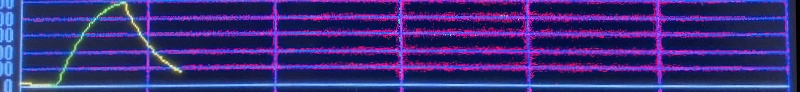normal_volume: (16, 0, 193, 85)
